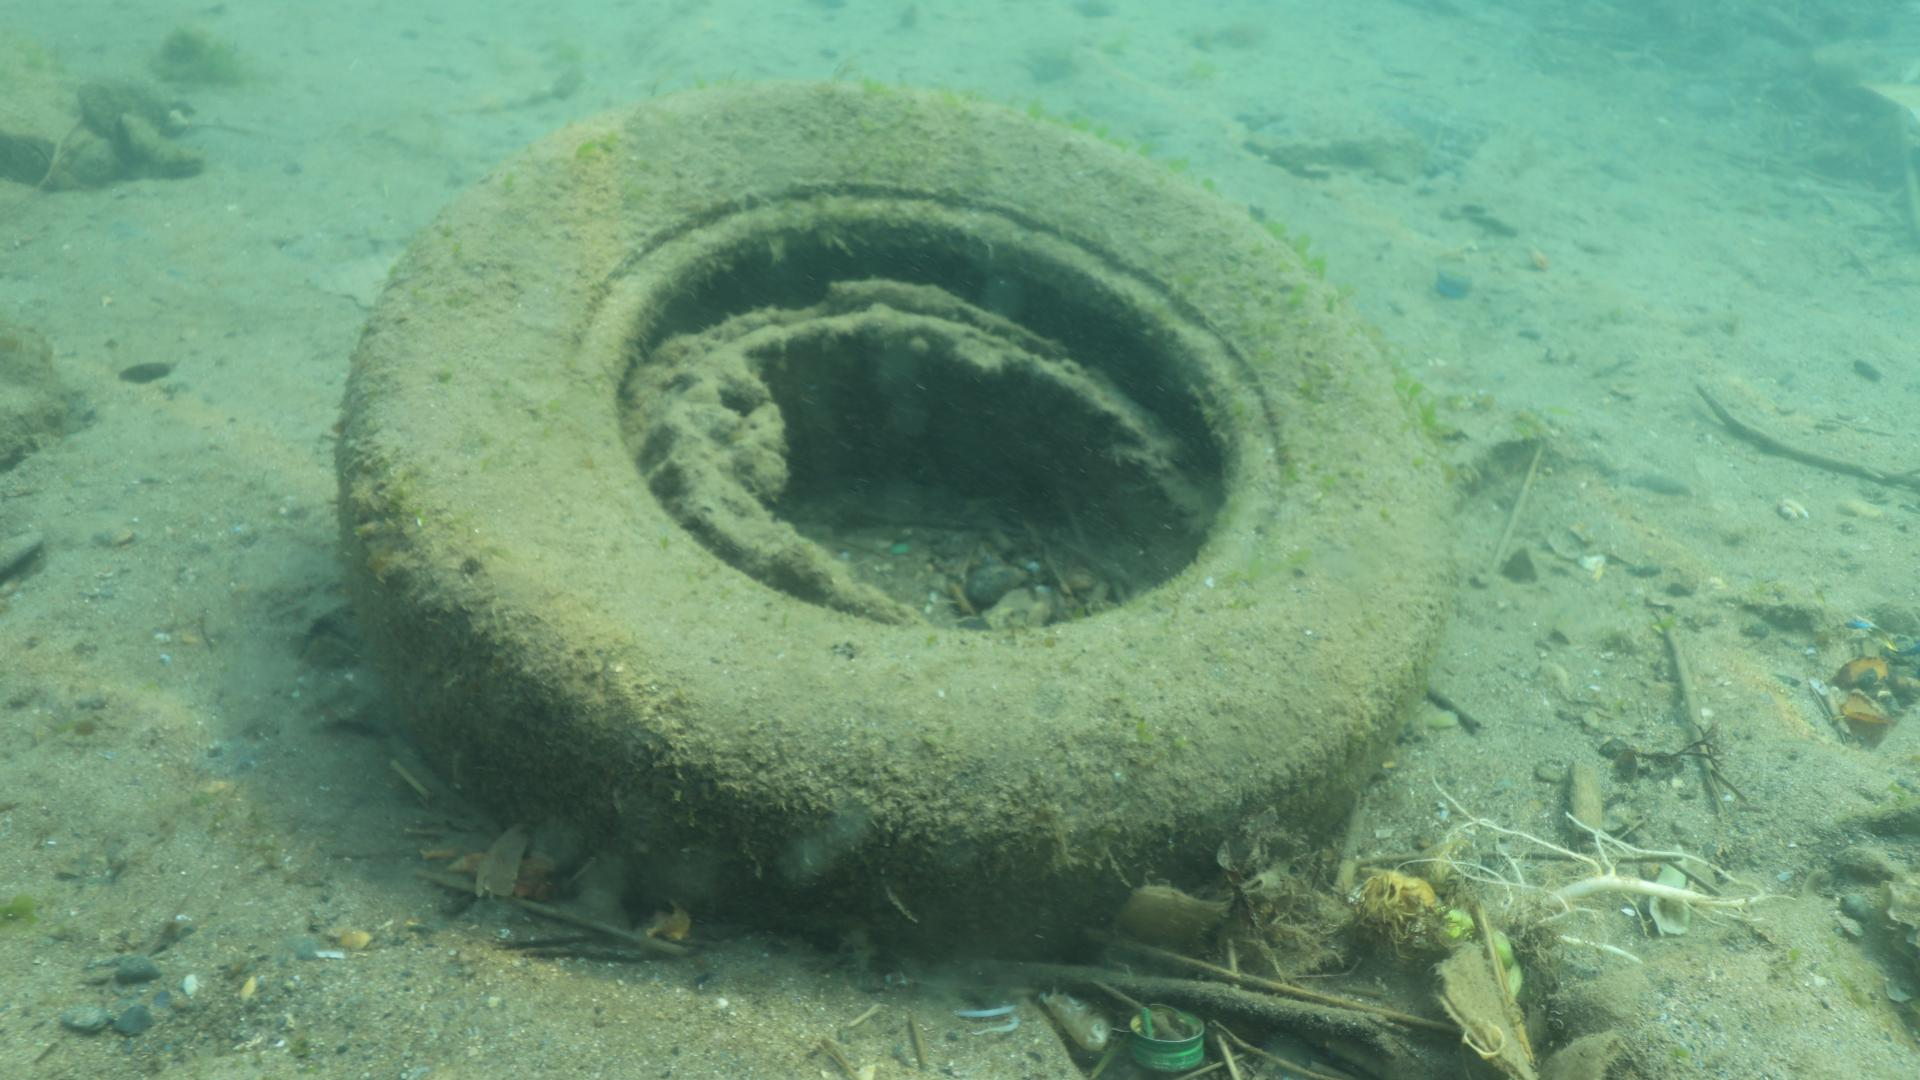tire: (335, 76, 1462, 947)
